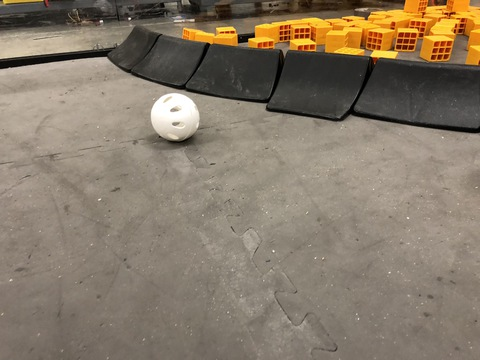ball: (139, 85, 211, 152)
